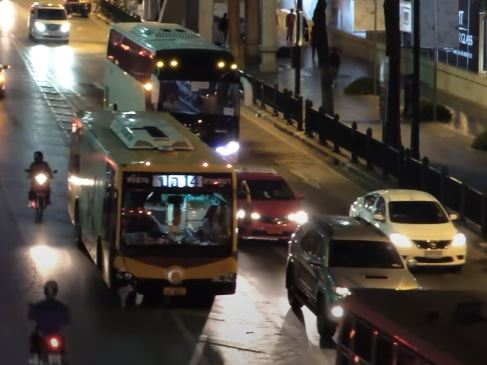Bus: (66, 110, 237, 296), (103, 20, 239, 168)
Car: (284, 214, 423, 341), (348, 188, 468, 268), (234, 169, 308, 243), (27, 2, 70, 43)
Motorcycle: (27, 280, 72, 365), (24, 150, 58, 224)
